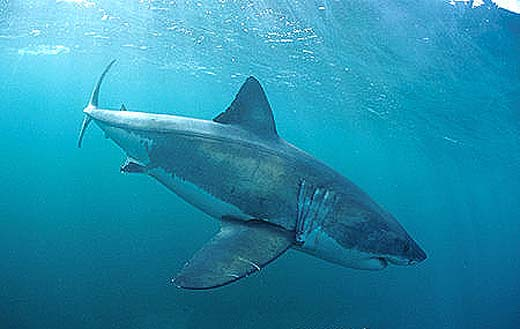Carcharodon_carcharias: (67, 57, 440, 305)
